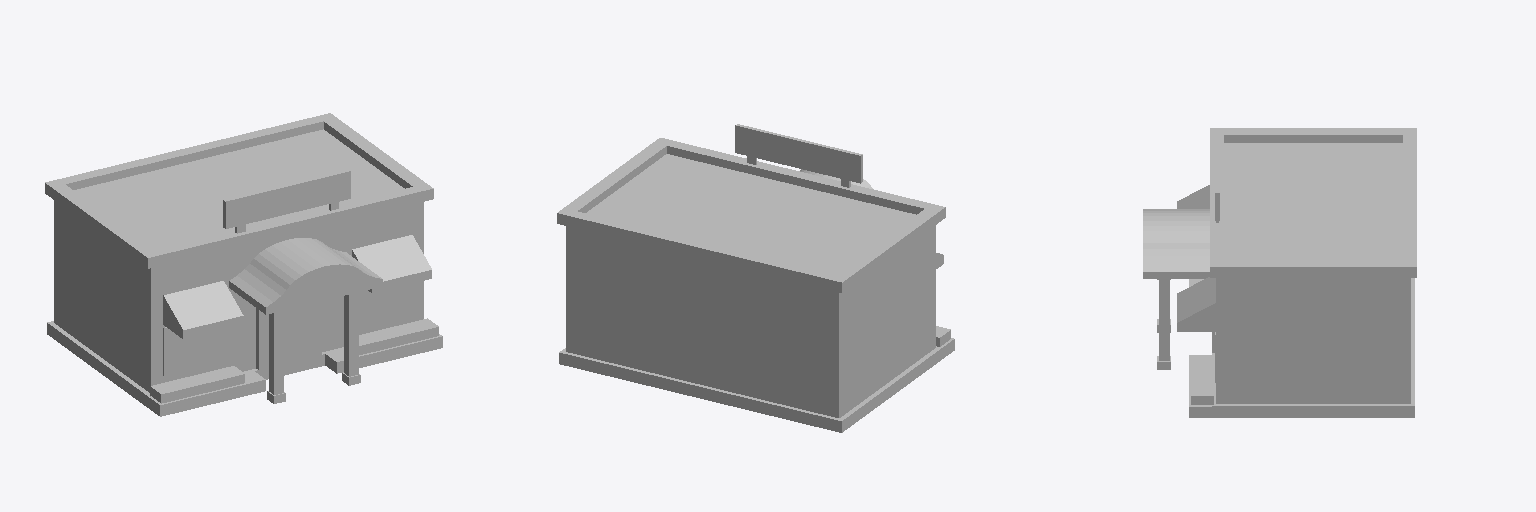
The model's file is Building_Bakery.obj.
The picture shows the model from 3 angles: view 1: azimuth 30°, elevation 25°; view 2: azimuth 150°, elevation 25°; view 3: azimuth 270°, elevation 25°; orthographic projection.
Visible parts, largest first — view 1: Building_Bakery; view 2: Building_Bakery; view 3: Building_Bakery.
Part boxes in pixels (x1,y1,x2,y2): Building_Bakery: (45, 113, 442, 416); Building_Bakery: (557, 124, 954, 432); Building_Bakery: (1143, 128, 1416, 417).
Size of the model in its own units: 535 by 334 by 444.